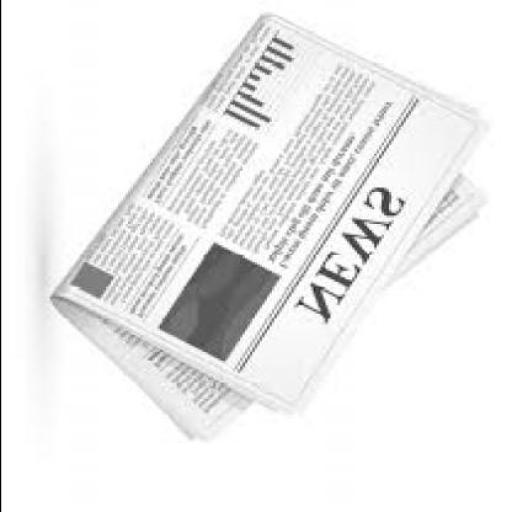paper: (52, 15, 485, 444)
